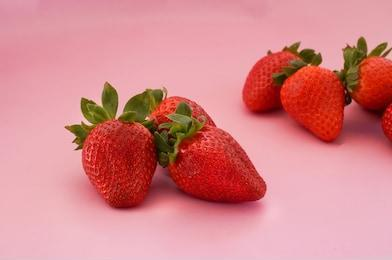Fresa: (166, 121, 269, 207), (77, 115, 166, 214), (276, 62, 358, 147), (242, 46, 321, 115), (347, 53, 392, 115)
